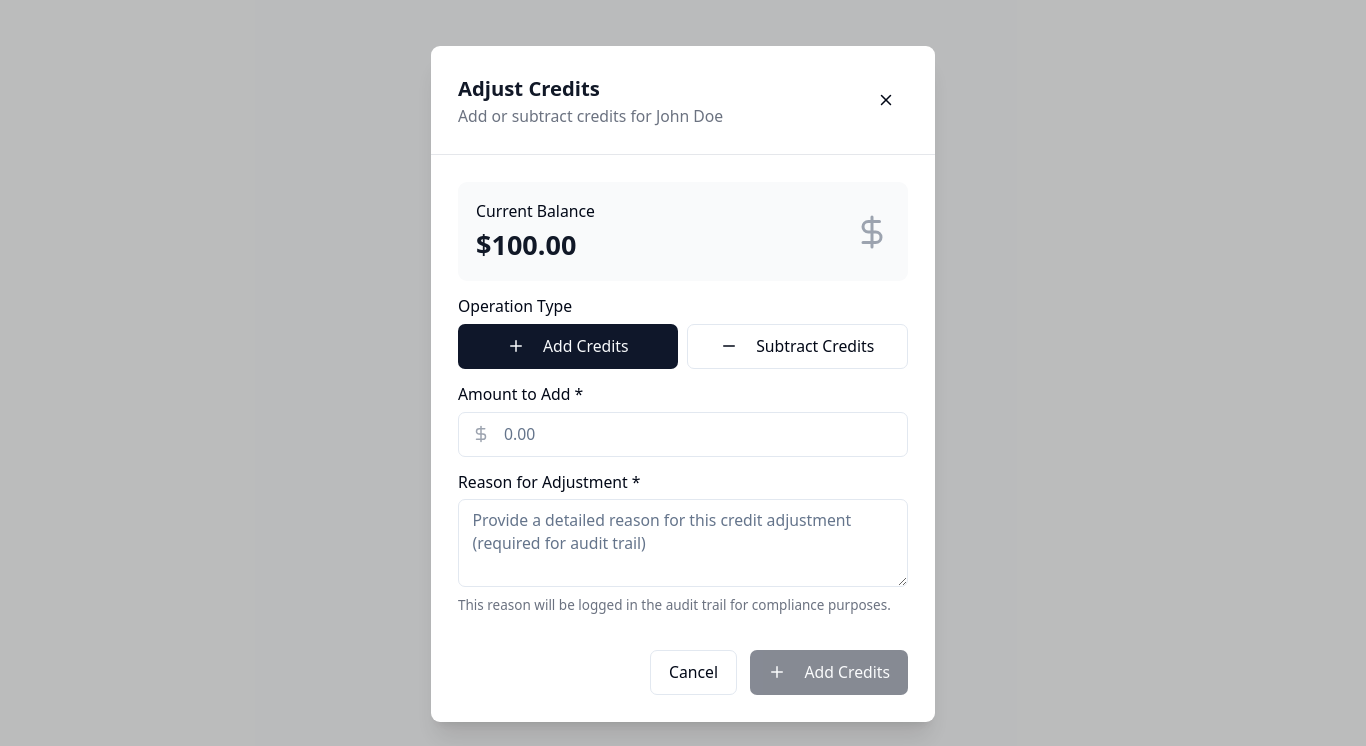
CreditAdjustModal › switches between add and subtract modes
Click the button "Subtract Credits" at (797, 346), box [686,324,908,369]
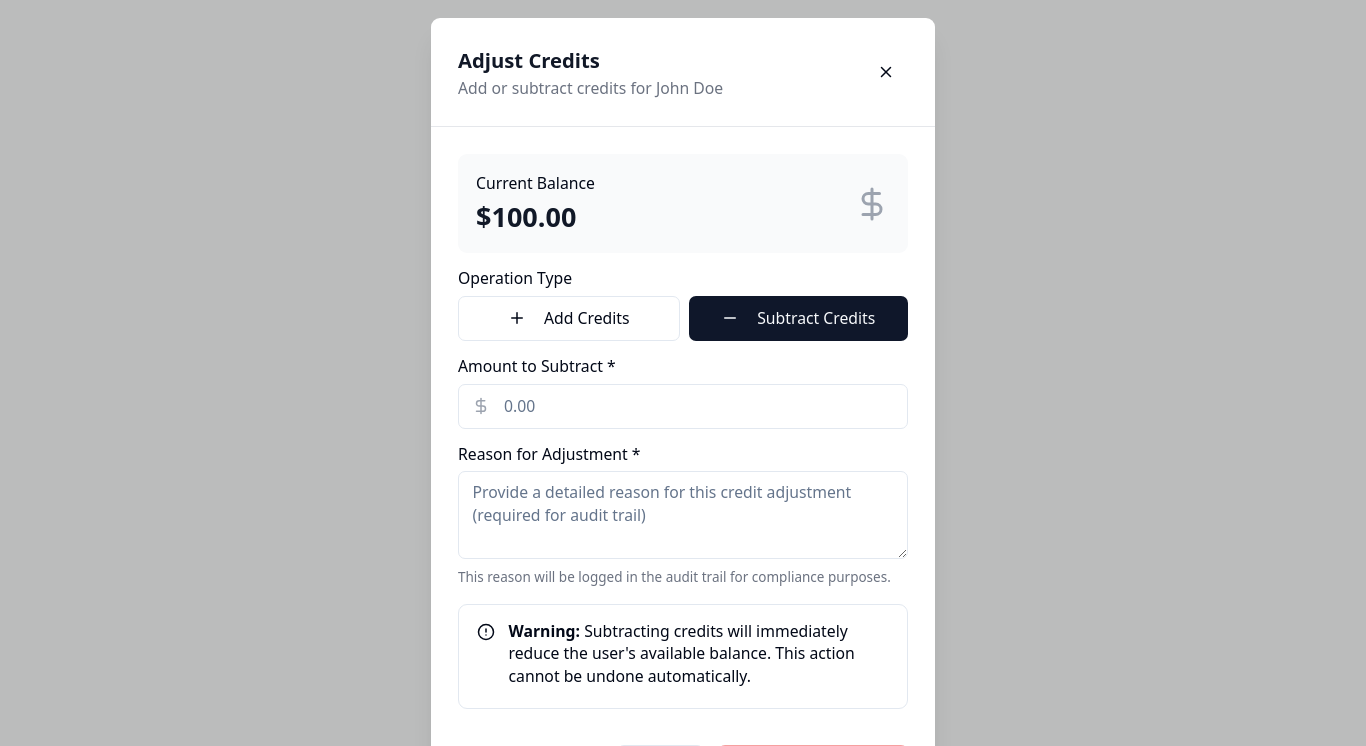
Now the text "Amount to Subtract *" is shown, box [458,355,616,377]
Click the button "Add Credits" at (569, 318), box [458,296,680,341]
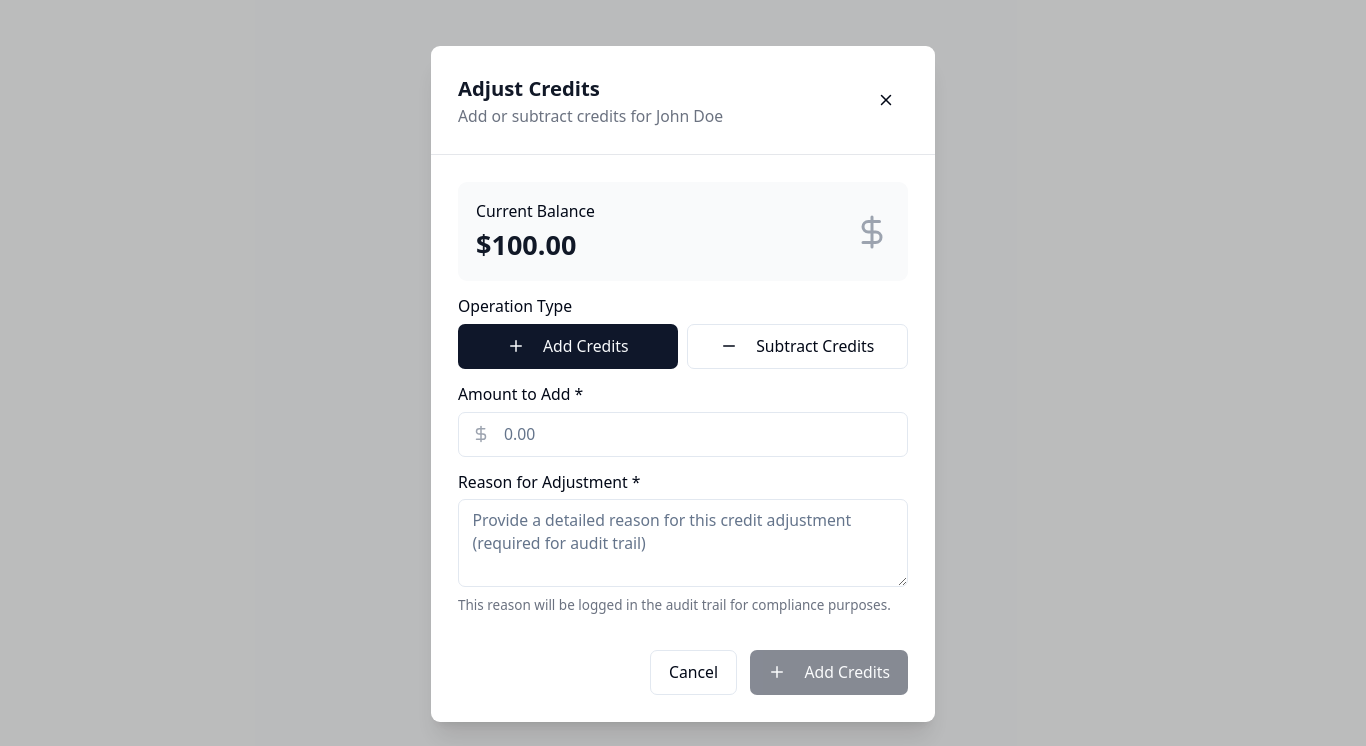
Now the text "Amount to Add *" is shown, box [458,383,583,405]
